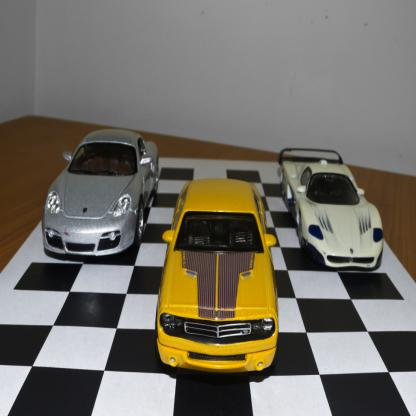Car: (153, 177, 279, 381), (39, 126, 160, 262), (278, 146, 386, 278)
